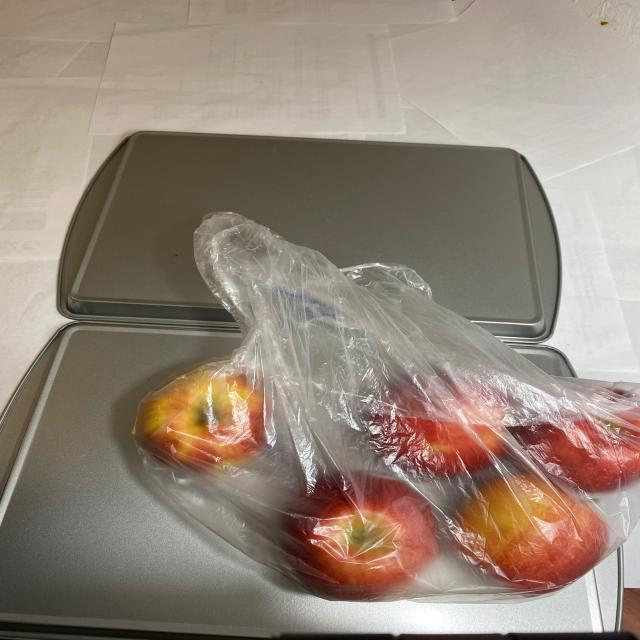apple: (127, 316, 640, 606)
